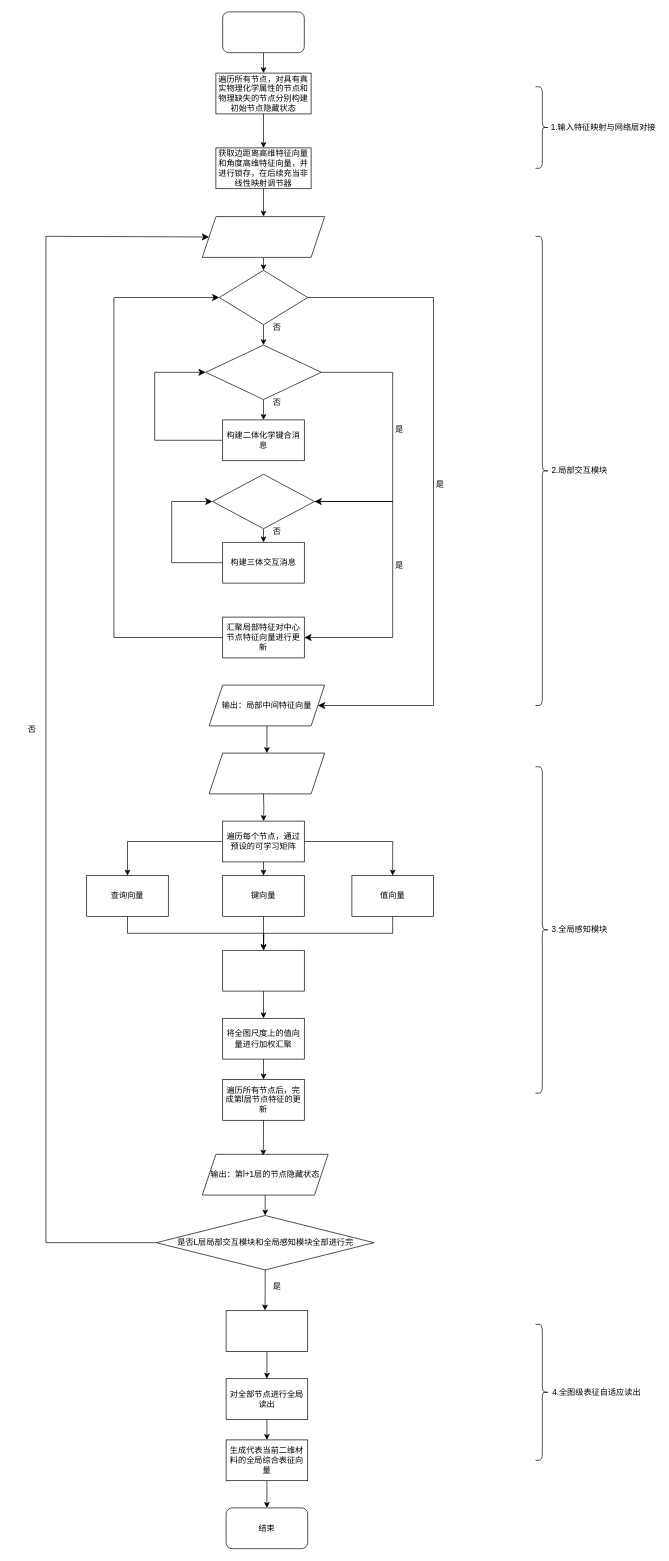
The diagram is 669 pixels wide and 1561 high, and some of its shapes have lost their labels. Here are the shapes that lost their labels. From the top down, the centre of each, then its label:
the point at 263,32: 开始
the point at 263,236: 输入：第l层的节点隐藏状态
the point at 263,297: 是否更新完所有节点
the point at 263,372: 是否遍历完该节点所有邻居
the point at 263,501: 是否遍历完所有邻居对
the point at 266,773: 输入：局部中间特征向量
the point at 263,970: 得到该节点与远端节点之间的全局自注意力权重
the point at 266,1331: L层局部交互模块与全局感知模块更新完成
